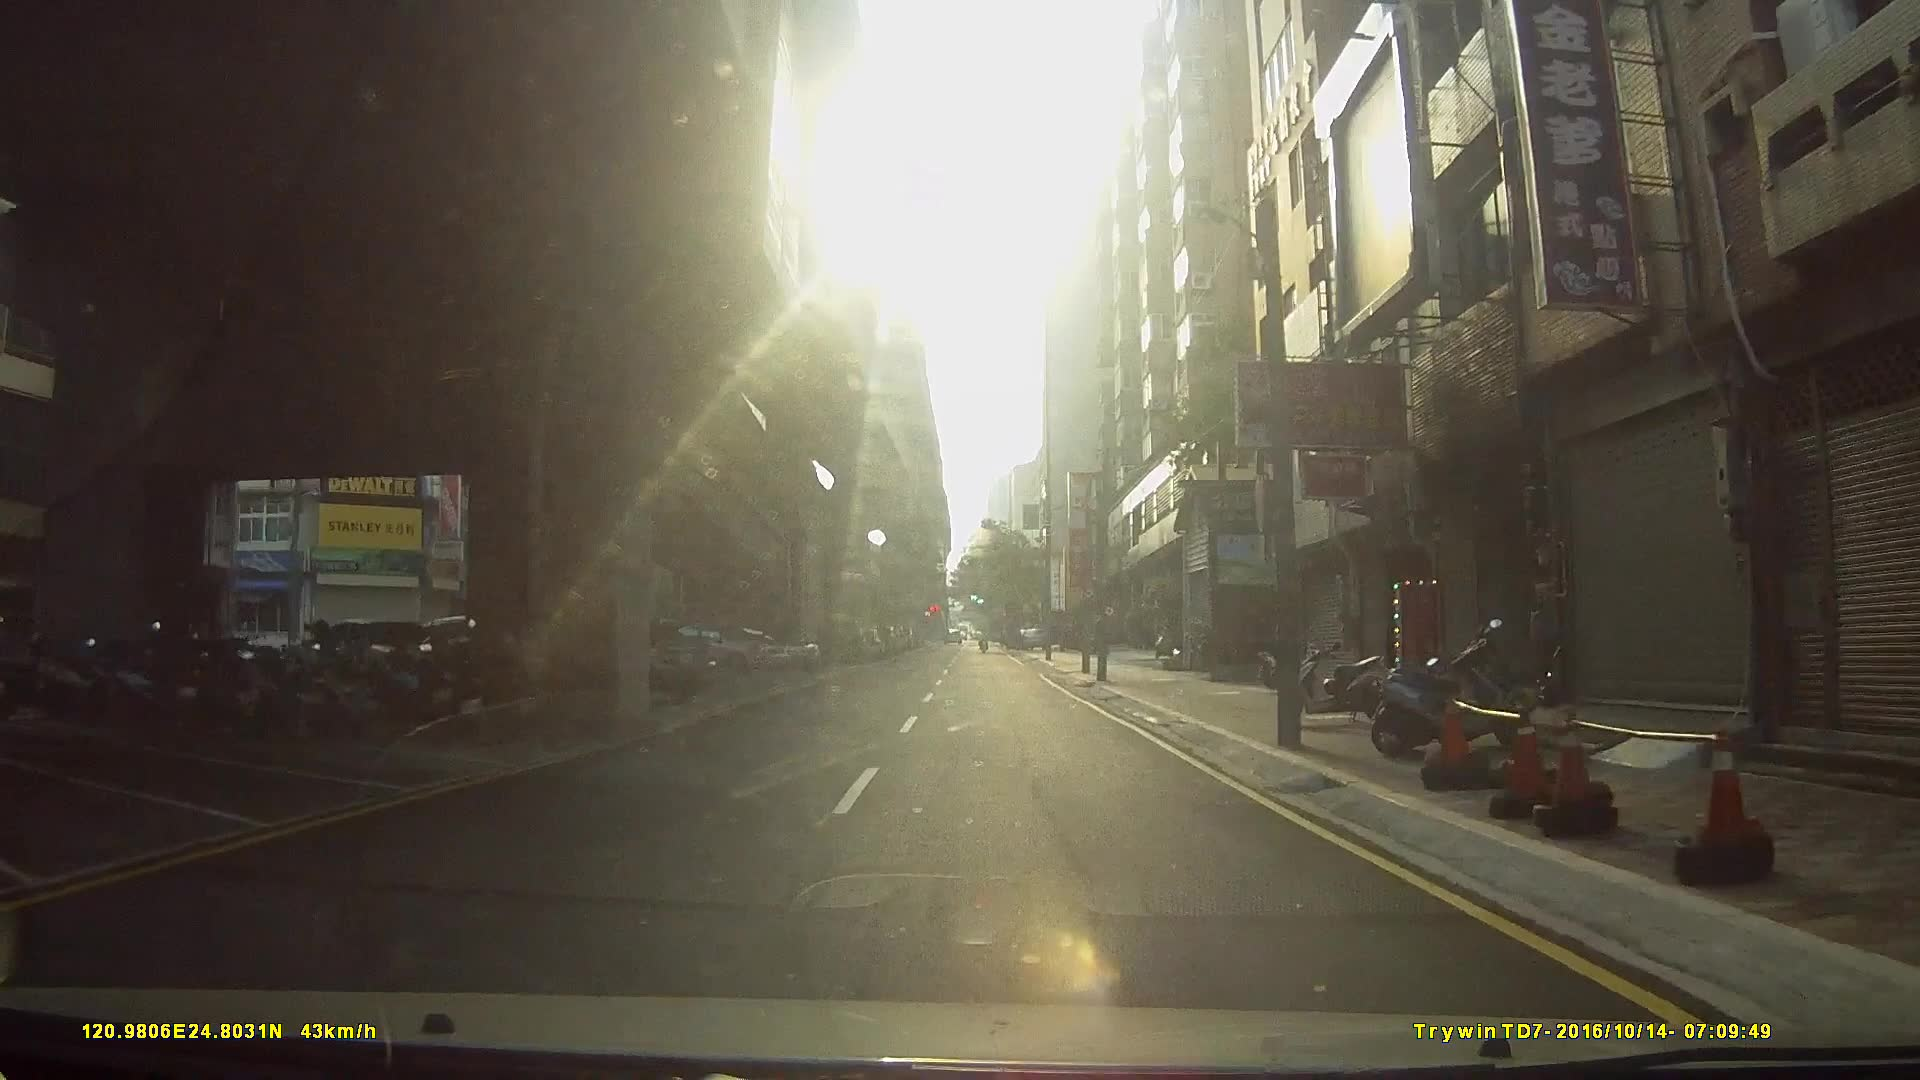vehicle: (543, 613, 717, 708), (655, 621, 793, 673)
